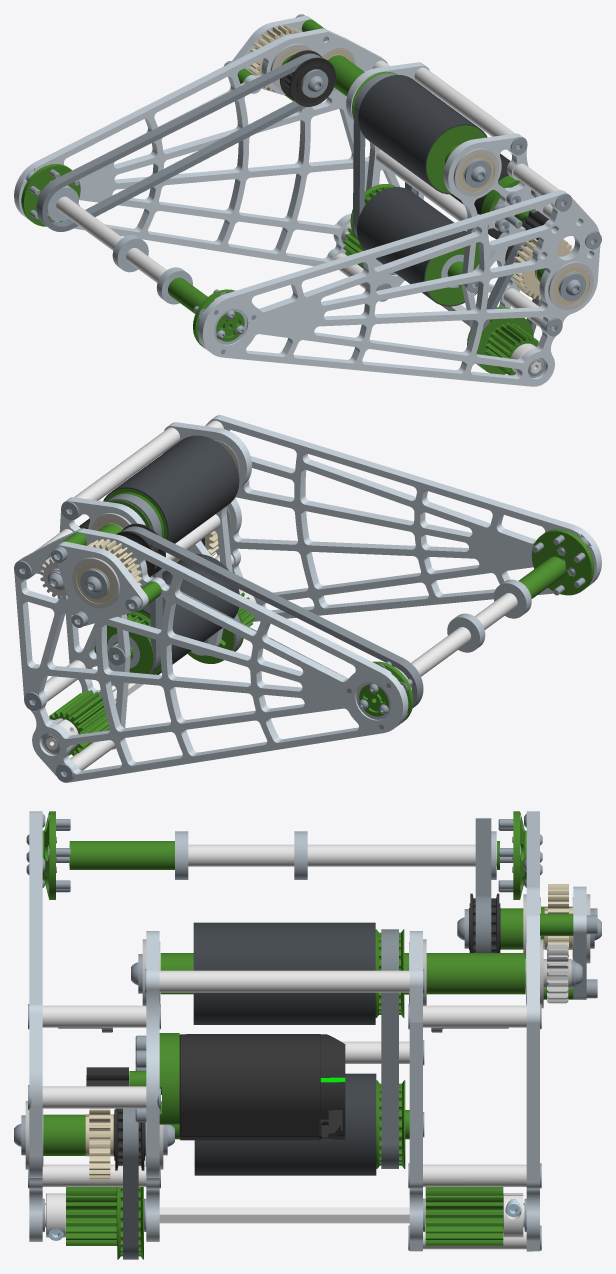
3 views of the same model, one above another, from view 1: azimuth 30°, elevation 25°; view 2: azimuth 150°, elevation 25°; view 3: azimuth 270°, elevation 25° (orthographic). The views are drawn at different scales.
Visible parts, largest first — view 1: NF26-SHT-CP-00.4, NF26-SHT-CP-00.5, 5M 445, NF26-SHT-CP-02.1, NF26-SHT-CP-02.3, NF26-SHT-CP-00.7, NF26-SHT-SHF-03 (×2), 1/2" Hex Bore Bearing (1.125" OD, 0.313" WD, Shielded, Flang (×2), NF26-SHT-CP-05.0, Hood Yata?? (×2), NF26-SHT-CP-00.6, 6900ZZ Bearing (×3) (+13 smaller); view 2: NF26-SHT-CP-00.5, NF26-SHT-CP-00.4, NF26-SHT-CP-02.1, 5M 445, NF26-SHT-CP-00.6, Hood Yata?? (×2), NF26-SHT-CP-02.3, NF26-SHT-CP-00.8, NF26-SHT-SHF-03 (×2), NF26-SHT-CP-00.7, NF26-SHT-SHF-00, NF26-SHT-CP-05.1 (+12 smaller); view 3: Kraken X44 Brushless Motor, NF26-SHT-CP-02.1, NF26-SHT-SPC-05 (×6), NF26-SHT-CP-02.3, NF26-SHT-SHF-03 (×2), NF26-SHT-SHF-00, NF26-SHT-CP-00.5, NF26-SHT-CP-00.4, NF26-SHT-CP-05.1, NF26-SHT-CP-00.6, NF26-SHT-CP-00.7, NF26-SHT-SHF-05 (+21 smaller).
Boxes of the visible parts, x1=… form: NF26-SHT-CP-00.4: x1=198, y1=190, x2=600, y2=386; NF26-SHT-CP-00.5: x1=14, y1=28, x2=387, y2=266; 5M 445: x1=36, y1=53, x2=321, y2=231; NF26-SHT-CP-02.1: x1=358, y1=75, x2=487, y2=194; NF26-SHT-CP-02.3: x1=357, y1=187, x2=477, y2=306; NF26-SHT-CP-00.7: x1=443, y1=133, x2=546, y2=328; NF26-SHT-SHF-03 (×2): x1=376, y1=67, x2=514, y2=221; 1/2" Hex Bore Bearing (1.125" OD, 0.313" WD, Shielded, Flang (×2): x1=453, y1=148, x2=593, y2=310; NF26-SHT-CP-05.0: x1=467, y1=307, x2=538, y2=375; Hood Yata?? (×2): x1=21, y1=164, x2=244, y2=348; NF26-SHT-CP-00.6: x1=346, y1=62, x2=430, y2=301; 6900ZZ Bearing (×3): x1=47, y1=185, x2=192, y2=304; NF26-SHT-CP-00.5: x1=14, y1=528, x2=408, y2=782; NF26-SHT-CP-00.4: x1=205, y1=415, x2=601, y2=621; NF26-SHT-CP-02.1: x1=103, y1=435, x2=239, y2=543; 5M 445: x1=121, y1=526, x2=423, y2=707; NF26-SHT-CP-00.6: x1=59, y1=497, x2=145, y2=749; Hood Yata?? (×2): x1=359, y1=529, x2=594, y2=723; NF26-SHT-CP-02.3: x1=141, y1=554, x2=239, y2=674; NF26-SHT-CP-00.8: x1=54, y1=541, x2=148, y2=626; NF26-SHT-SHF-03 (×2): x1=74, y1=427, x2=220, y2=560; NF26-SHT-CP-00.7: x1=163, y1=422, x2=251, y2=655; NF26-SHT-SHF-00: x1=411, y1=593, x2=517, y2=676; NF26-SHT-CP-05.1: x1=49, y1=690, x2=109, y2=755; Kraken X44 Brushless Motor: x1=129, y1=1034, x2=345, y2=1140; NF26-SHT-CP-02.1: x1=193, y1=922, x2=375, y2=1024; NF26-SHT-SPC-05 (×6): x1=42, y1=1005, x2=526, y2=1249; NF26-SHT-CP-02.3: x1=194, y1=1073, x2=376, y2=1175; NF26-SHT-SHF-03 (×2): x1=159, y1=970, x2=409, y2=1063; NF26-SHT-SHF-00: x1=69, y1=844, x2=496, y2=866; NF26-SHT-CP-00.5: x1=526, y1=811, x2=539, y2=1251; NF26-SHT-CP-00.4: x1=29, y1=811, x2=42, y2=1241; NF26-SHT-CP-05.1: x1=425, y1=1187, x2=503, y2=1245; NF26-SHT-CP-00.6: x1=409, y1=931, x2=422, y2=1251; NF26-SHT-CP-00.7: x1=146, y1=931, x2=159, y2=1241; NF26-SHT-SHF-05: x1=159, y1=1207, x2=425, y2=1223.
Size of the model in its own units: 0.2805 by 0.1643 by 0.2648.
